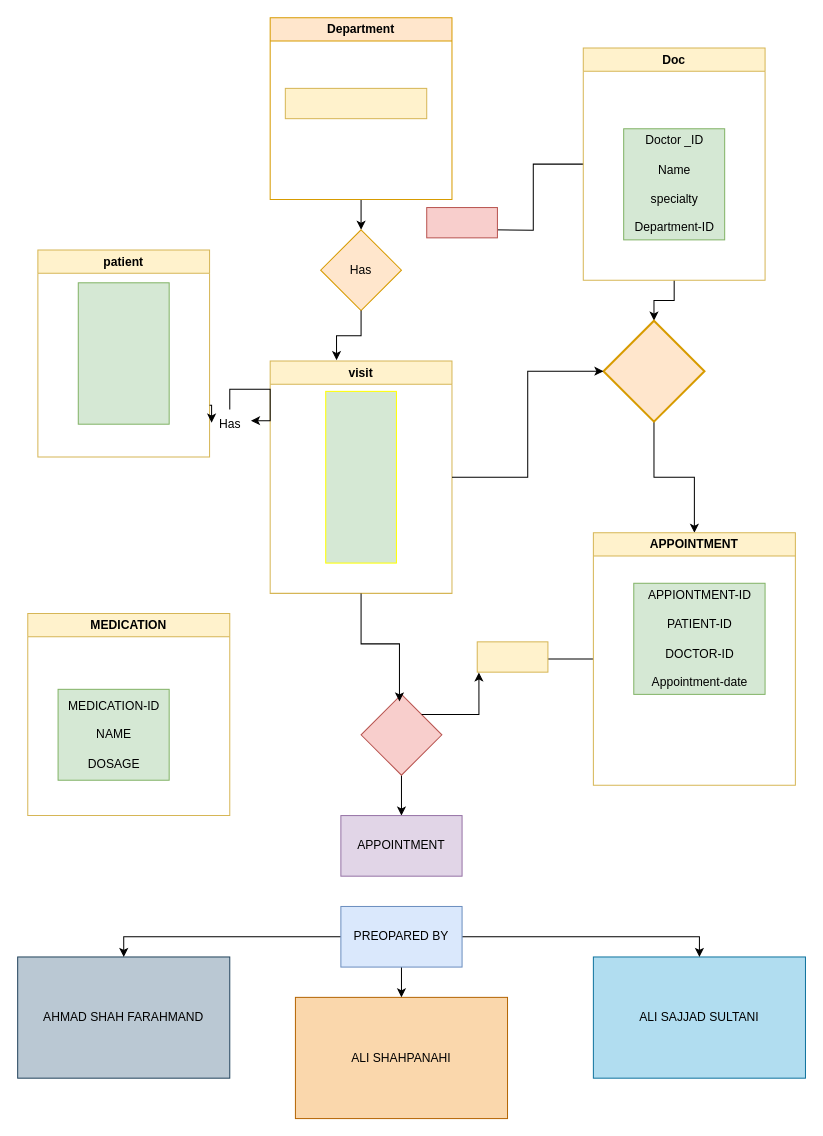
The diagram is 823 pixels wide and 1136 high, and some of its shapes have lost their labels. Here are the shapes that lost their labels. From the top down, the box of each, then its label:
(284, 87, 427, 119): Department-ID Name
(426, 207, 497, 238): performs
(77, 282, 169, 424): patient-id name dob gender contact-info
(602, 319, 705, 422): works-in
(325, 390, 396, 563): visit-id patient-id doctor-id visit-date diagnosis
(476, 641, 548, 672): MAKES
(360, 693, 442, 775): prescribes
